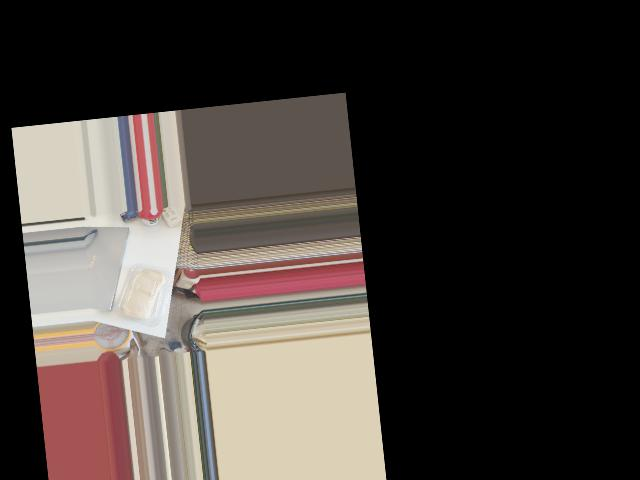cheese: (110, 258, 176, 334)
